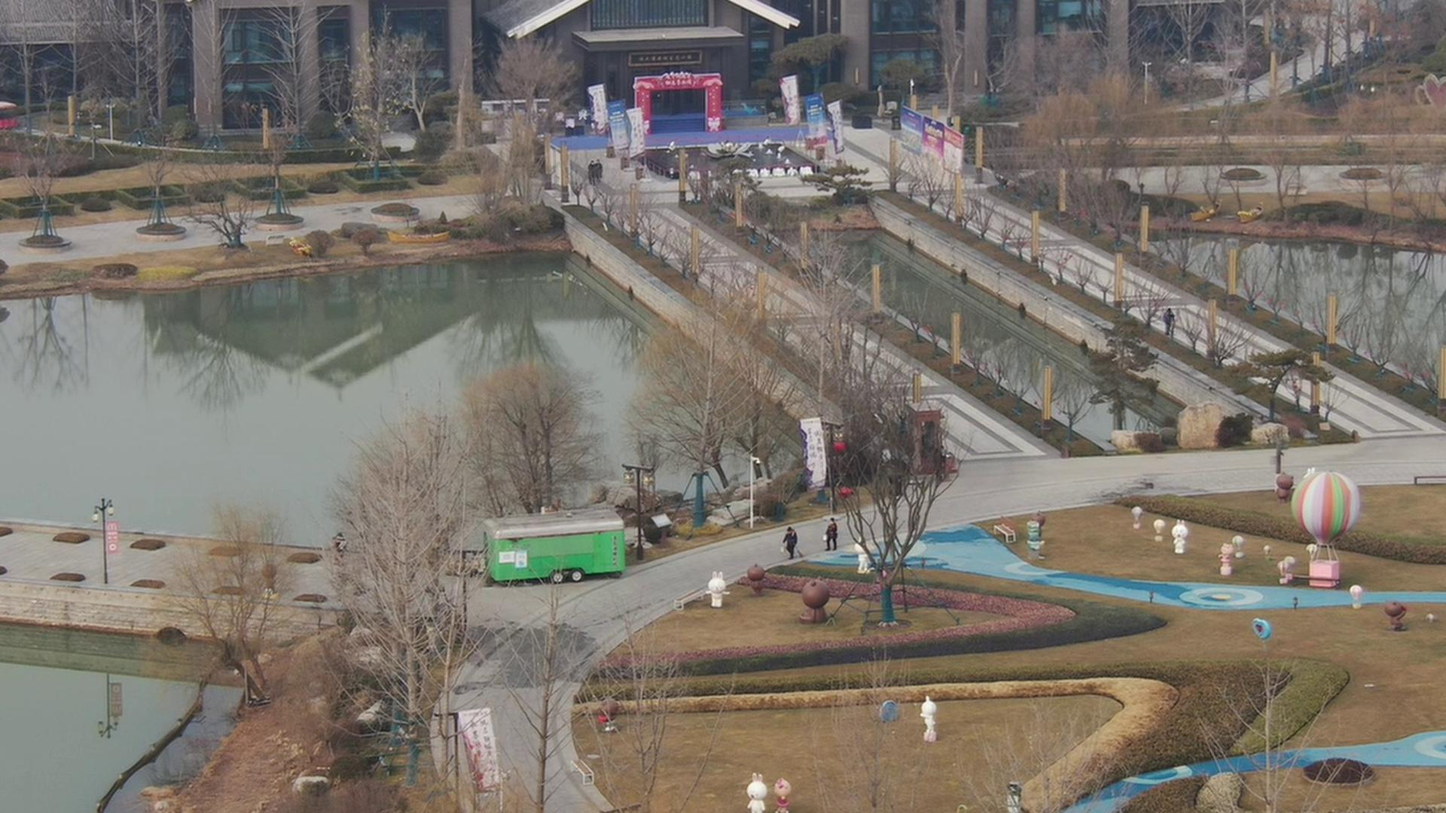class_2: (581, 151, 599, 184)
human: (775, 520, 798, 562), (822, 508, 843, 548)
